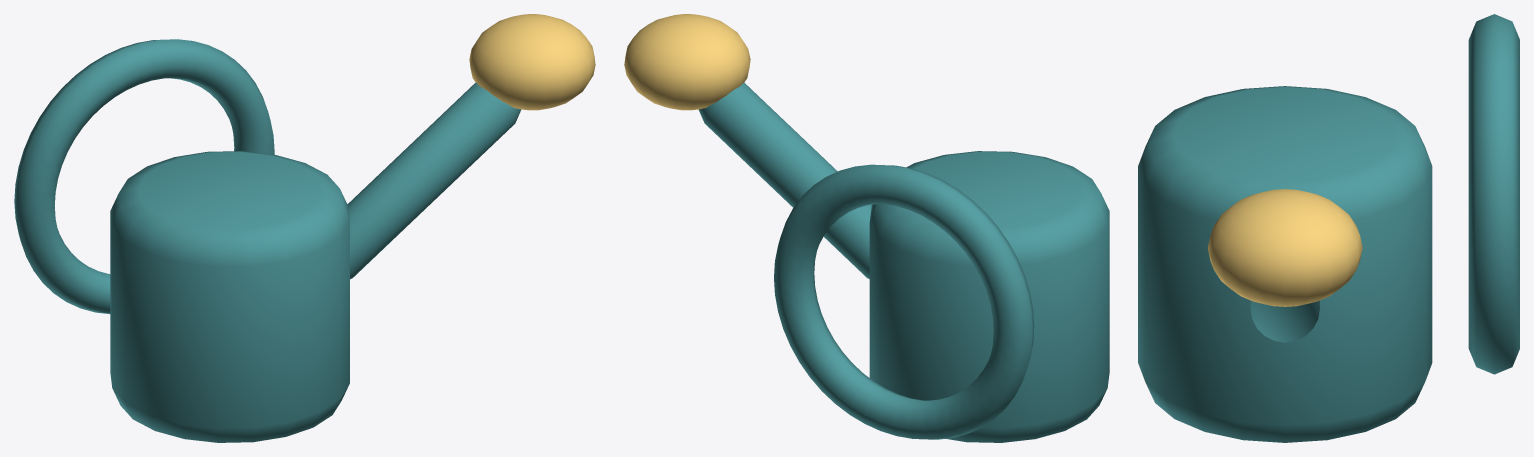
Rendered from watering_can.glb.
The picture shows the model from 3 angles, left to right: view 1: azimuth 30°, elevation 25°; view 2: azimuth 150°, elevation 25°; view 3: azimuth 270°, elevation 25°; orthographic projection. The views are drawn at different scales.
Visible parts, largest first — view 1: watering_can / material batches; view 2: watering_can / material batches; view 3: watering_can / material batches.
Part boxes in pixels (left/top/right/bottom): watering_can / material batches: left=14, top=14, right=595, bottom=442; watering_can / material batches: left=624, top=14, right=1109, bottom=442; watering_can / material batches: left=1138, top=14, right=1519, bottom=442.
Size of the model in its own units: 0.883 by 0.535 by 0.493.
